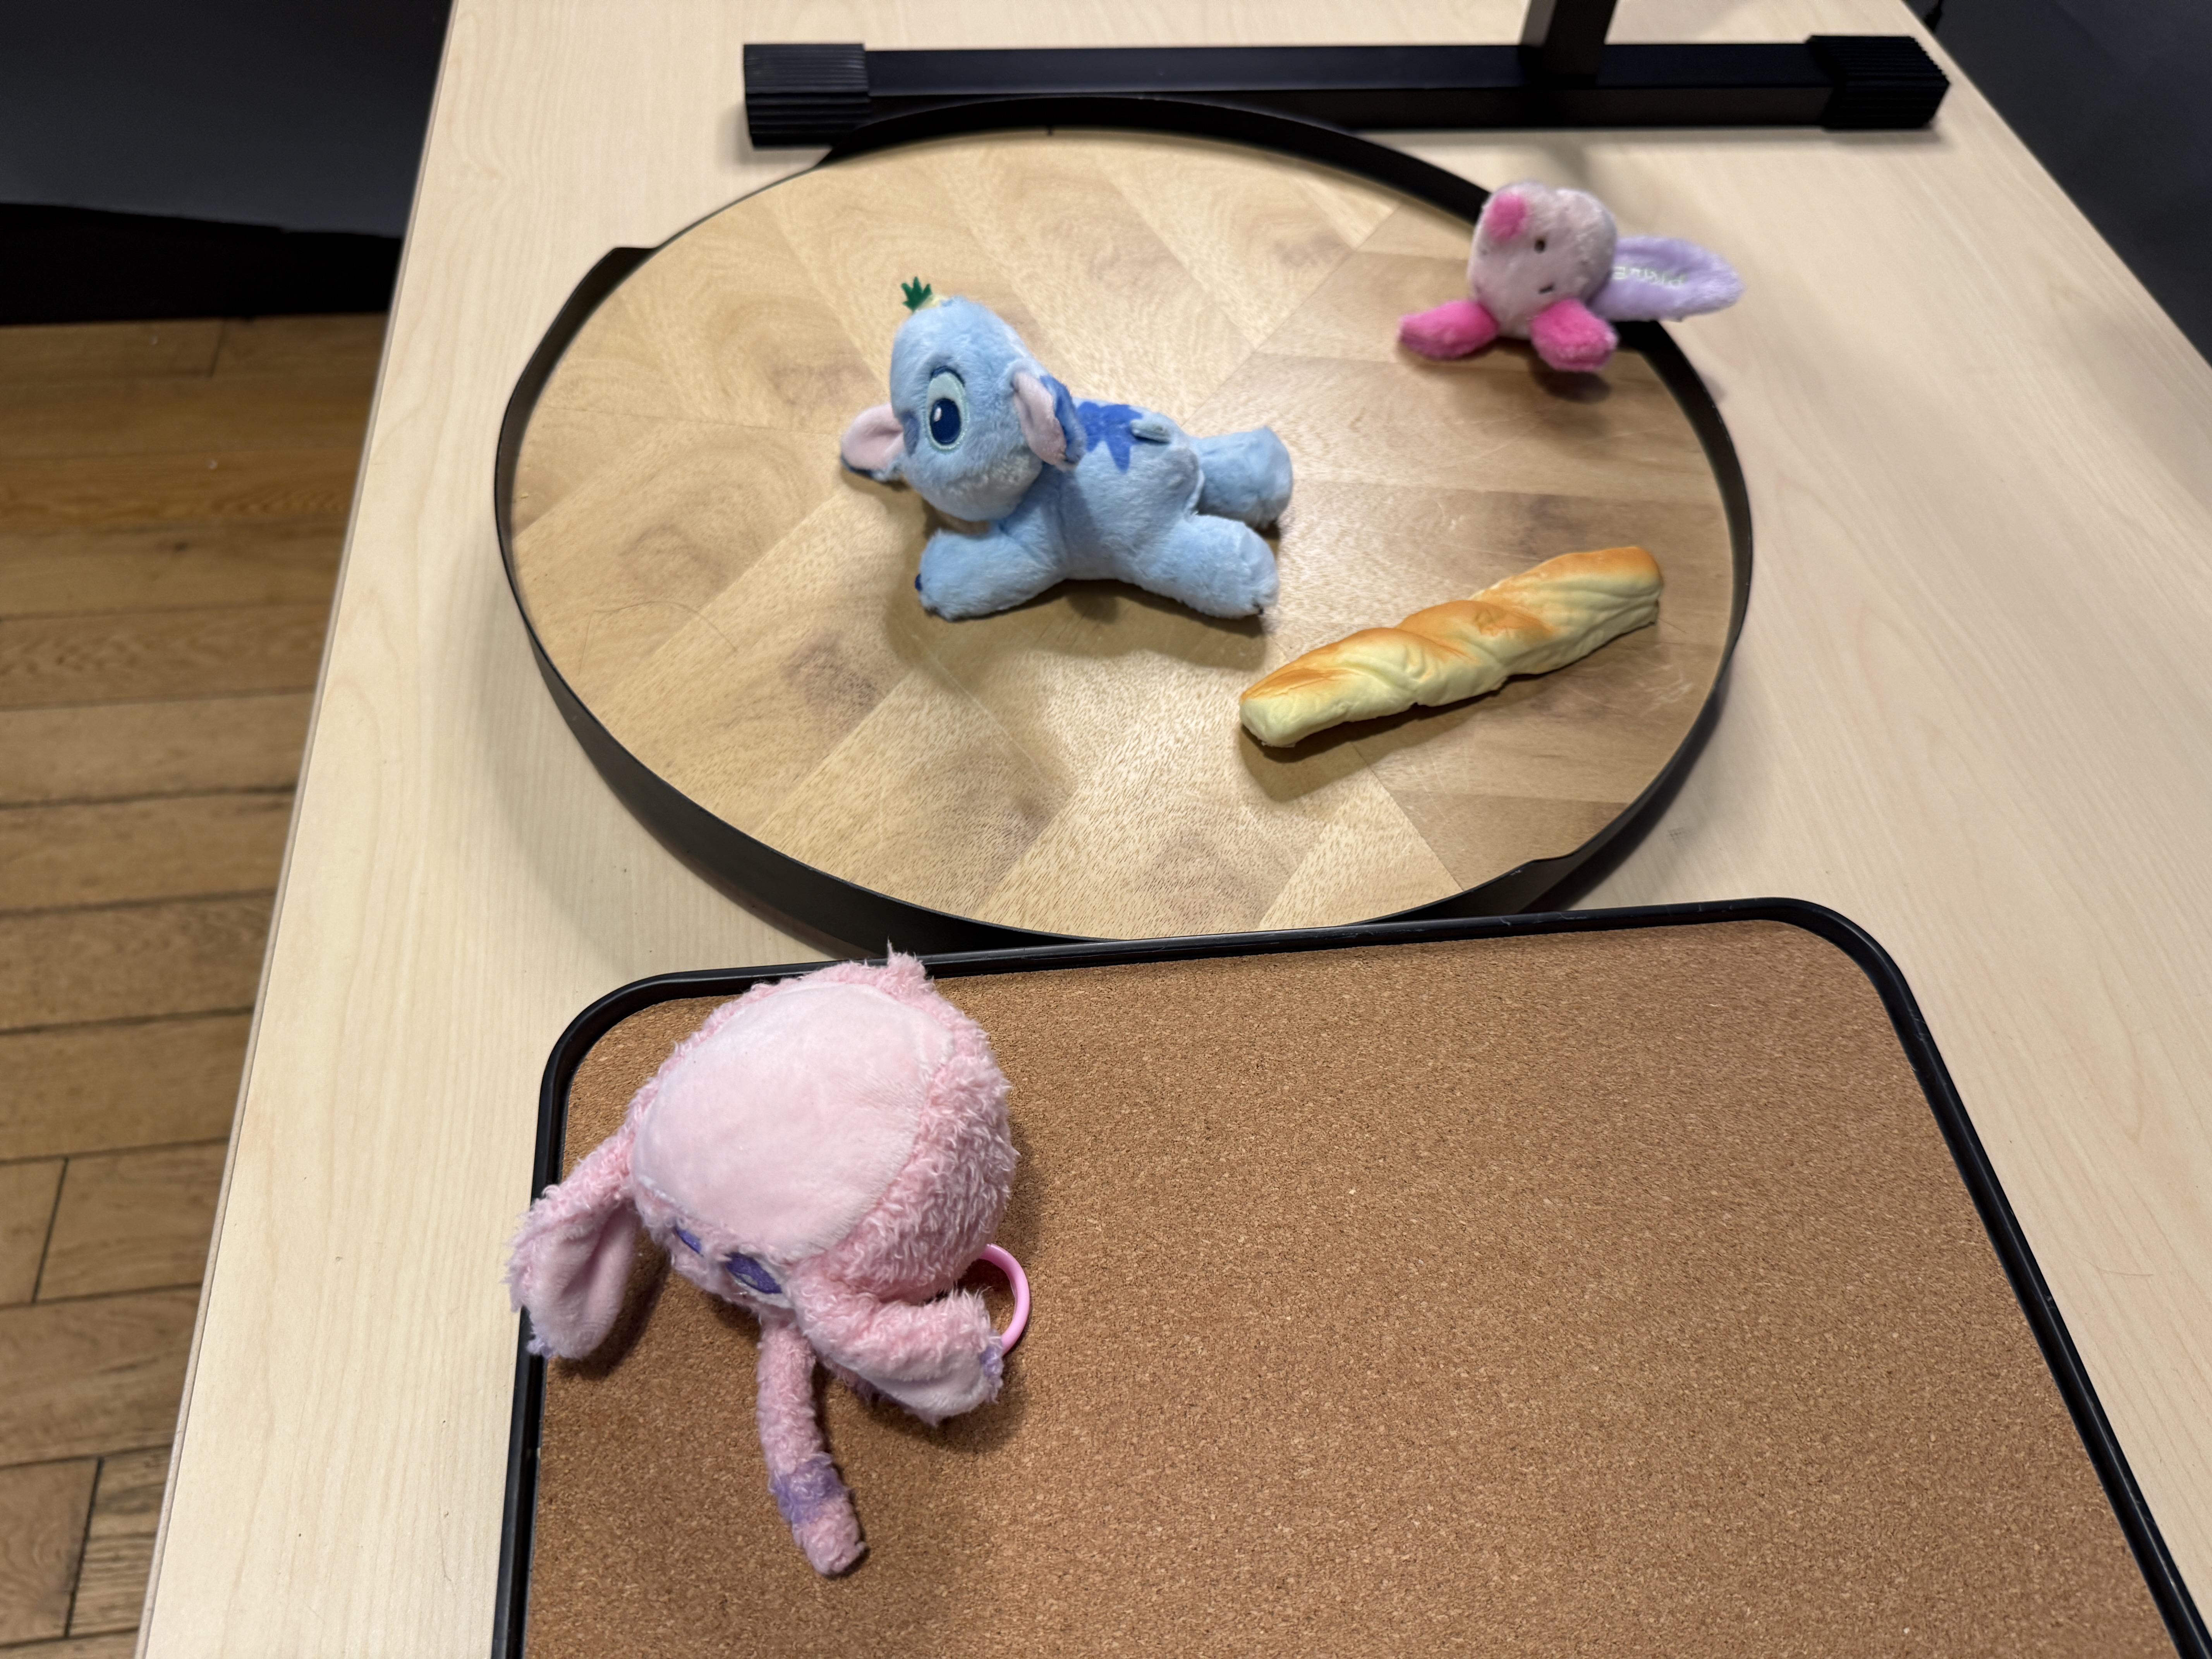bread: (1238, 537, 1660, 746)
doll: (507, 953, 1036, 1570), (834, 281, 1294, 626), (1402, 178, 1745, 373)
